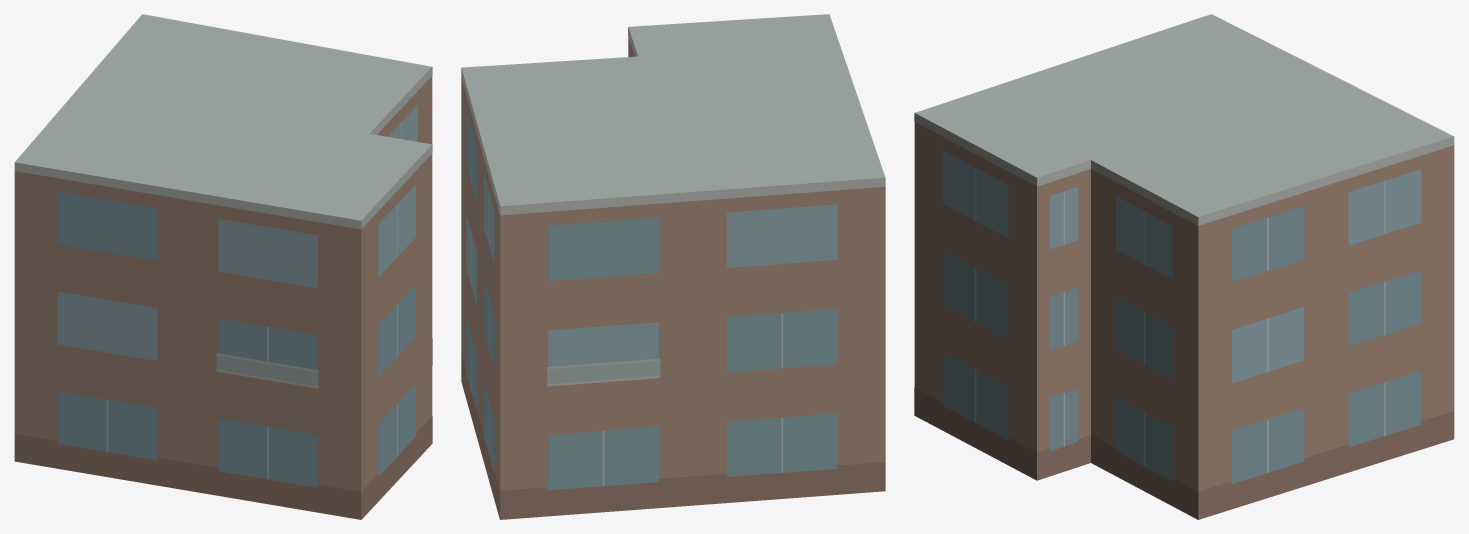
The model's file is survey-upis-32592836.glb.
3 views of the same model, side by side, from view 1: azimuth 30°, elevation 25°; view 2: azimuth 150°, elevation 25°; view 3: azimuth 270°, elevation 25° (orthographic). The views are drawn at different scales.
Parts seen in each view (by area): view 1: survey-upis-32592836.tmp; view 2: survey-upis-32592836.tmp; view 3: survey-upis-32592836.tmp.
Part boxes in pixels (x1,y1,x2,y2): survey-upis-32592836.tmp: (14, 14, 432, 519); survey-upis-32592836.tmp: (461, 14, 885, 519); survey-upis-32592836.tmp: (914, 14, 1454, 519).
Bounding box in the file's own units: 12.09 × 8.4 × 13.58.
